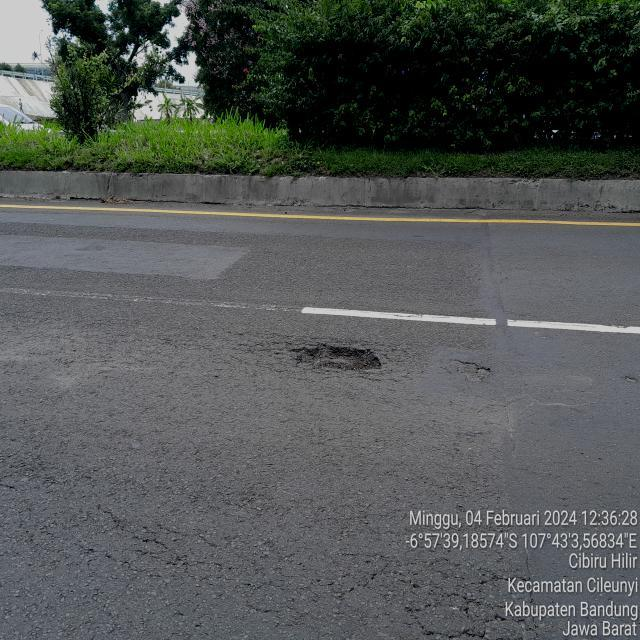Buraco: (286, 340, 386, 374), (444, 357, 496, 386)
